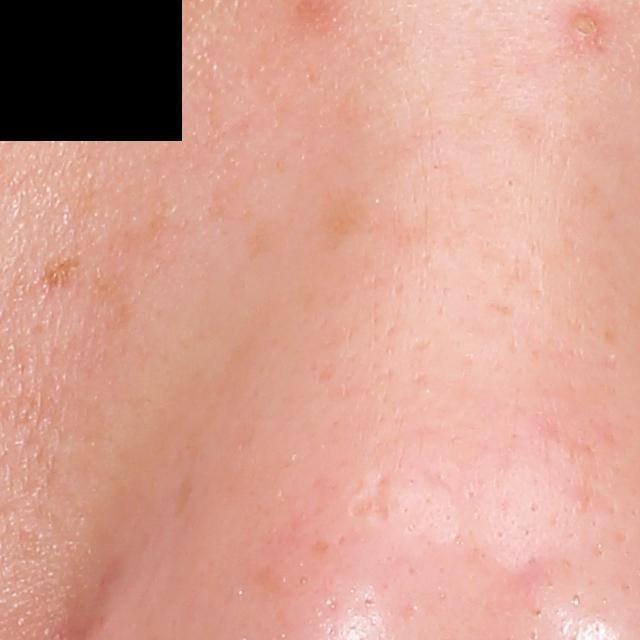atrophic_scar: (348, 470, 398, 528)
melasma: (317, 183, 384, 254), (37, 244, 94, 296)
pustule: (568, 5, 611, 48)
